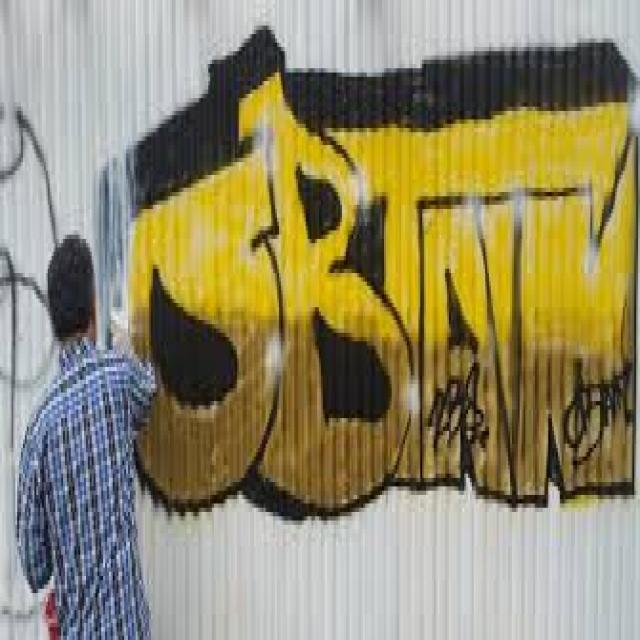-: (128, 25, 638, 519), (0, 100, 57, 453)
